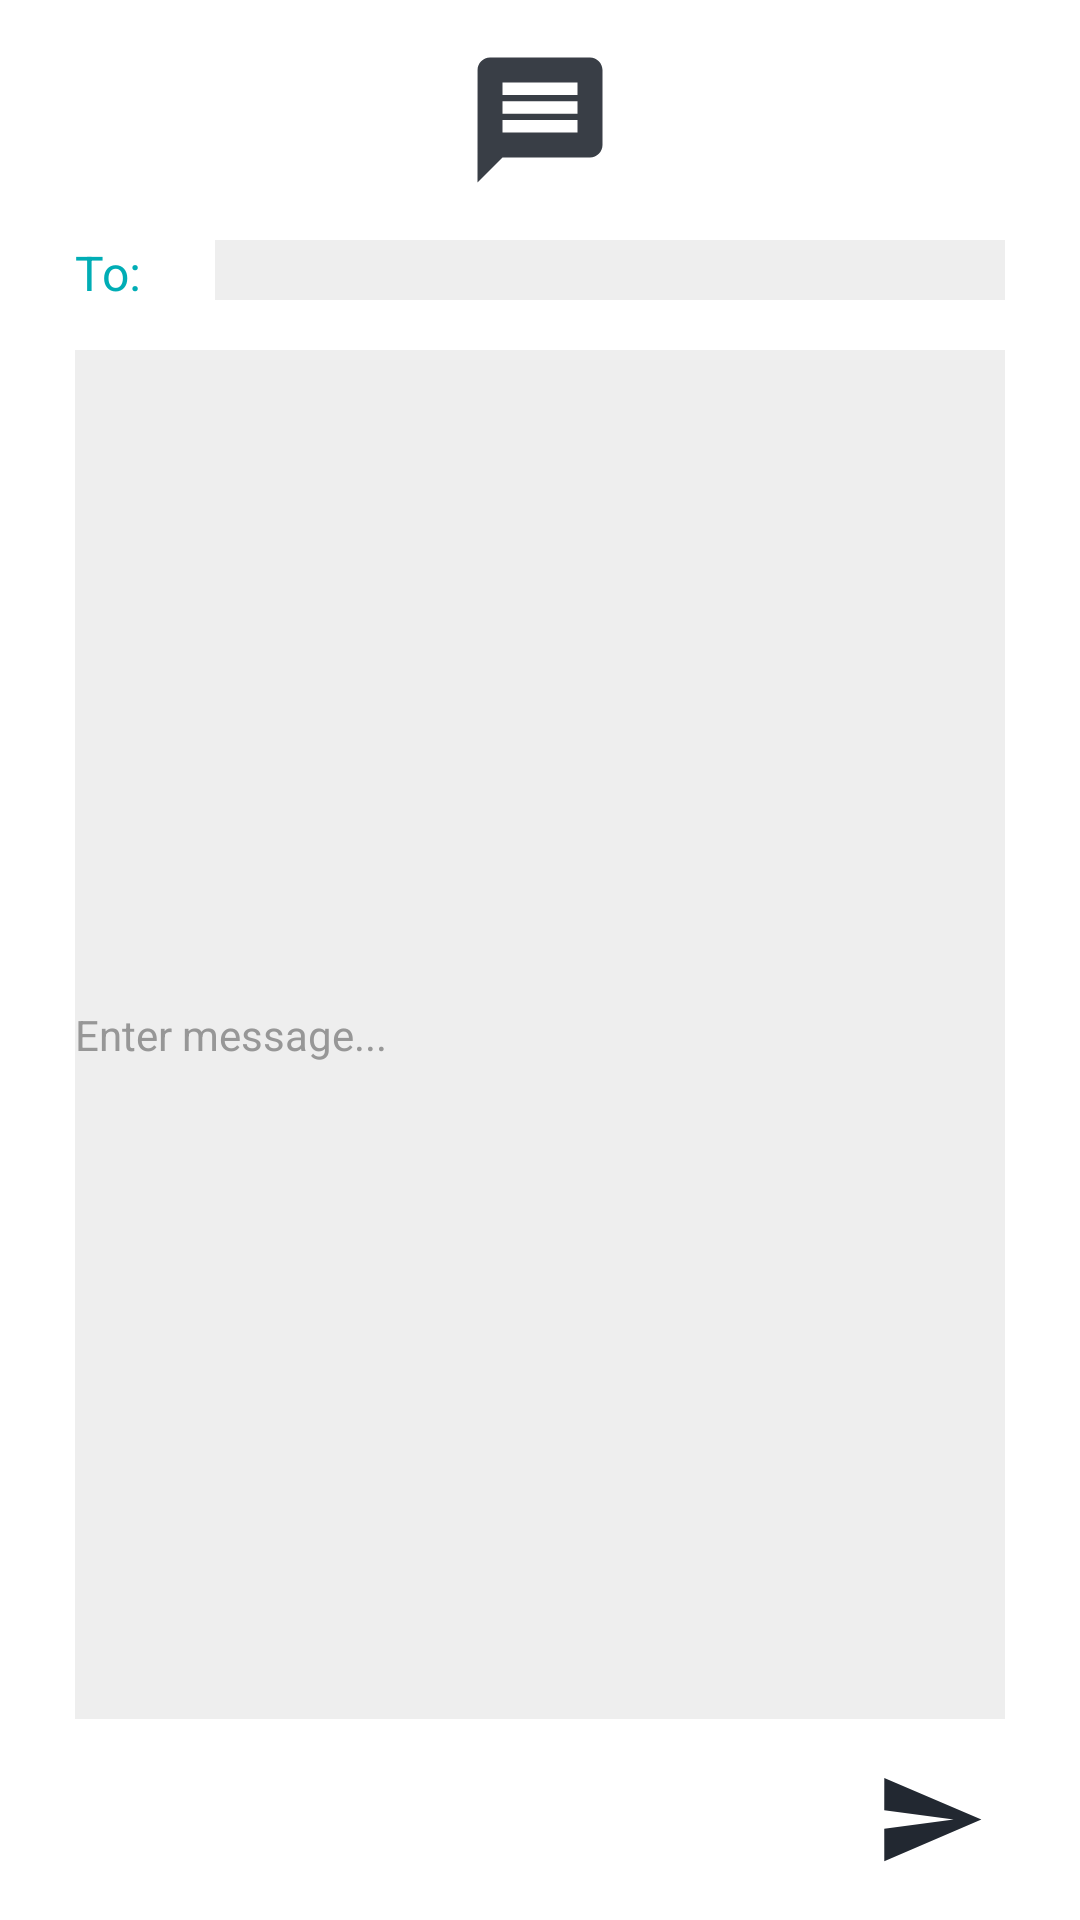

Screen size 1080 x 1920. Icon name, then its box in pixels as (x1, y1, x2, y2):
sendbutton: (884, 1778, 981, 1861)
